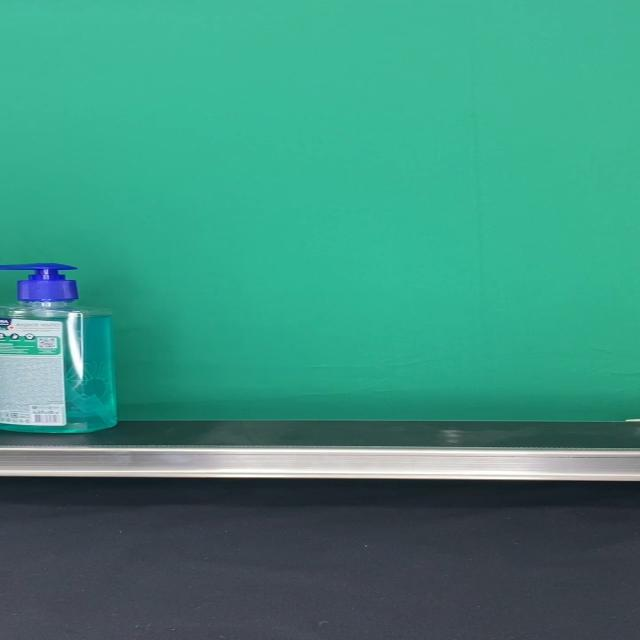Bottle: (0, 263, 118, 433)
Cap: (0, 262, 79, 302)
